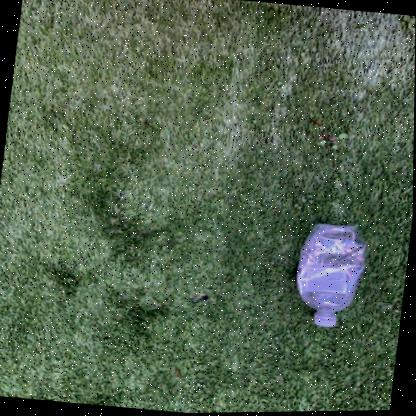Plastic: (298, 223, 366, 327)
